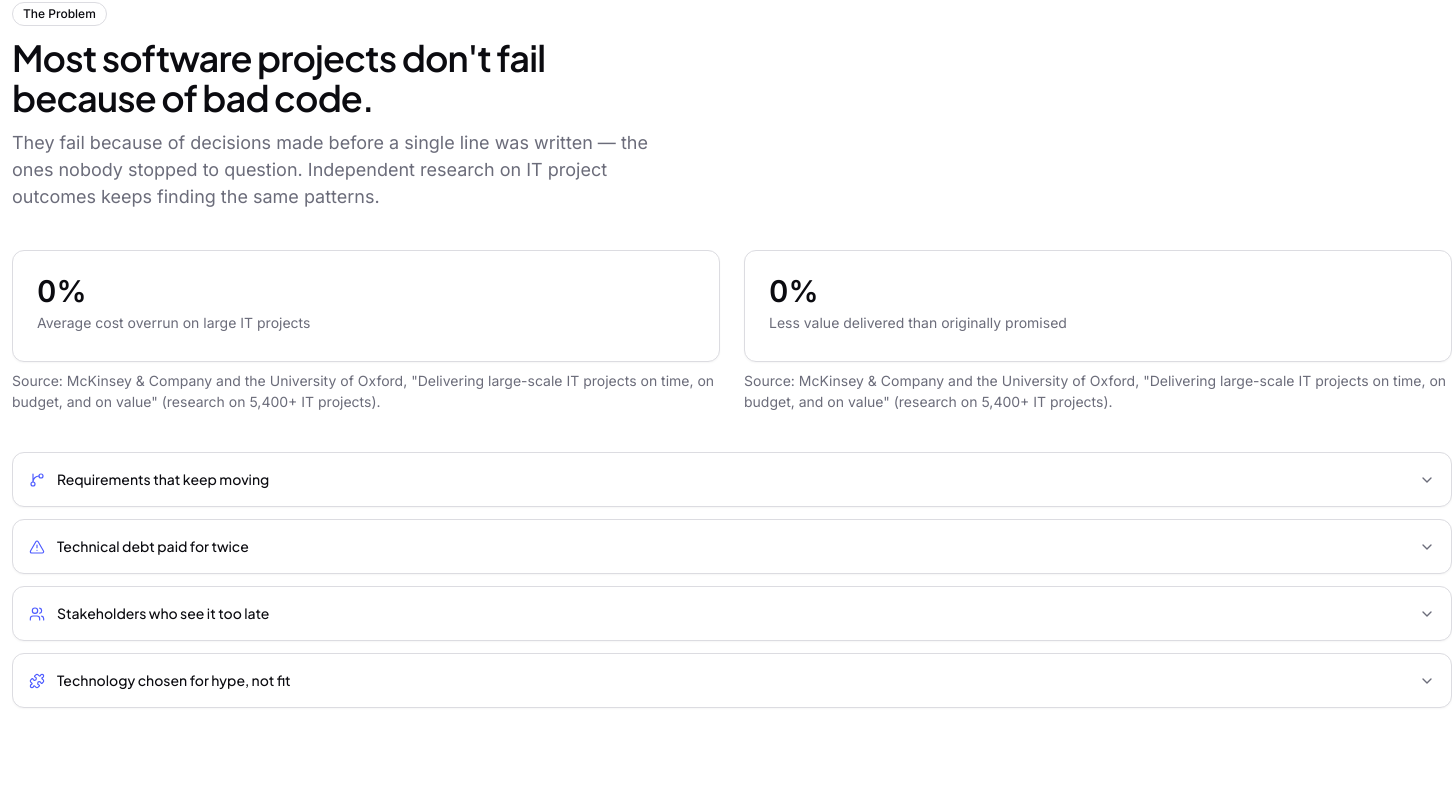
Test: ProblemStatement › expands a pain point to reveal Byld IQ's response and tracks it
Click the button "Requirements that keep moving".
click(163, 479)  # box [29,453,1435,506]
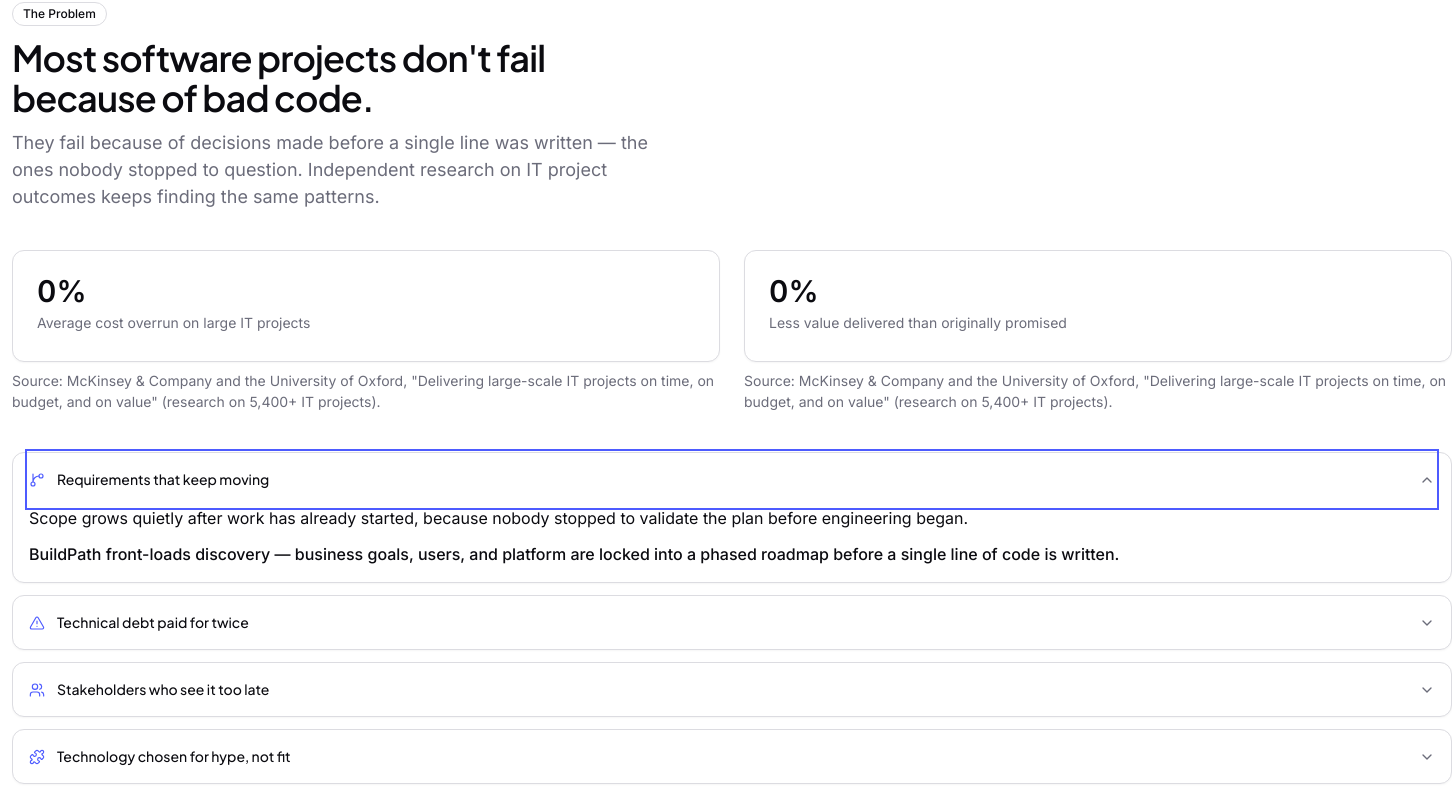
Check: the text "BuildPath front-loads discovery — business goals, users, and platform are locked into a phased roadmap before a single l" is shown, box [29,544,1120,564]
